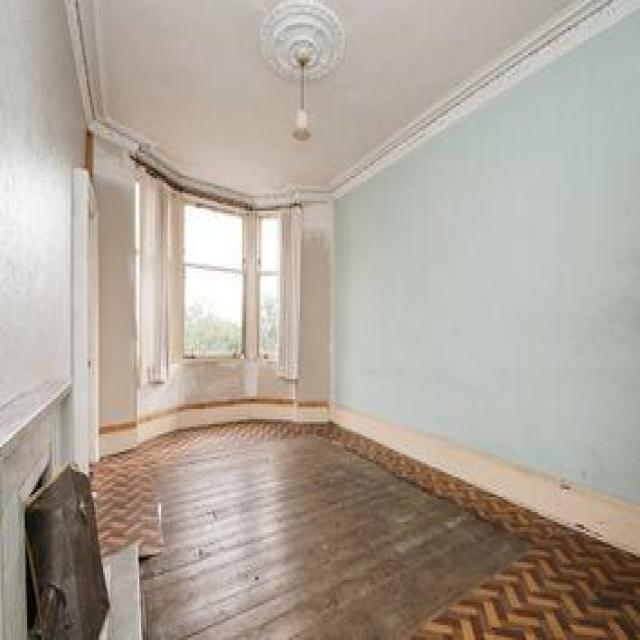Wall: (301, 12, 640, 502), (65, 0, 640, 207), (91, 423, 640, 639), (100, 404, 640, 554), (0, 0, 86, 407), (86, 132, 138, 429), (139, 359, 295, 419)
